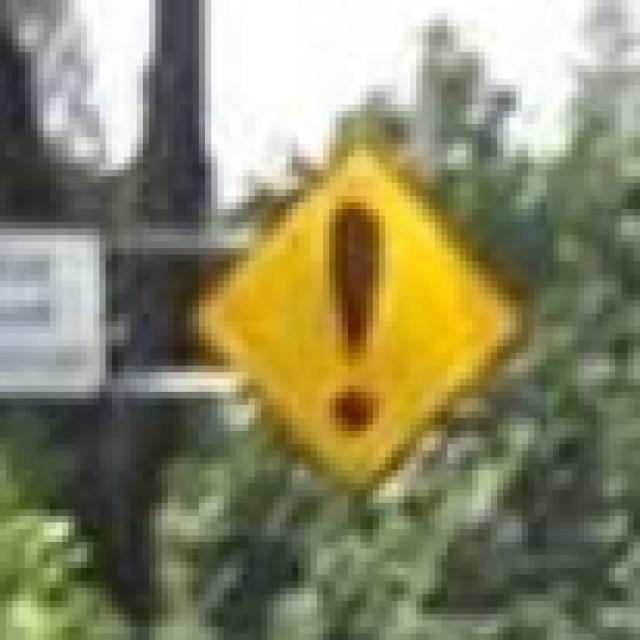traffic sign: (193, 150, 516, 490)
